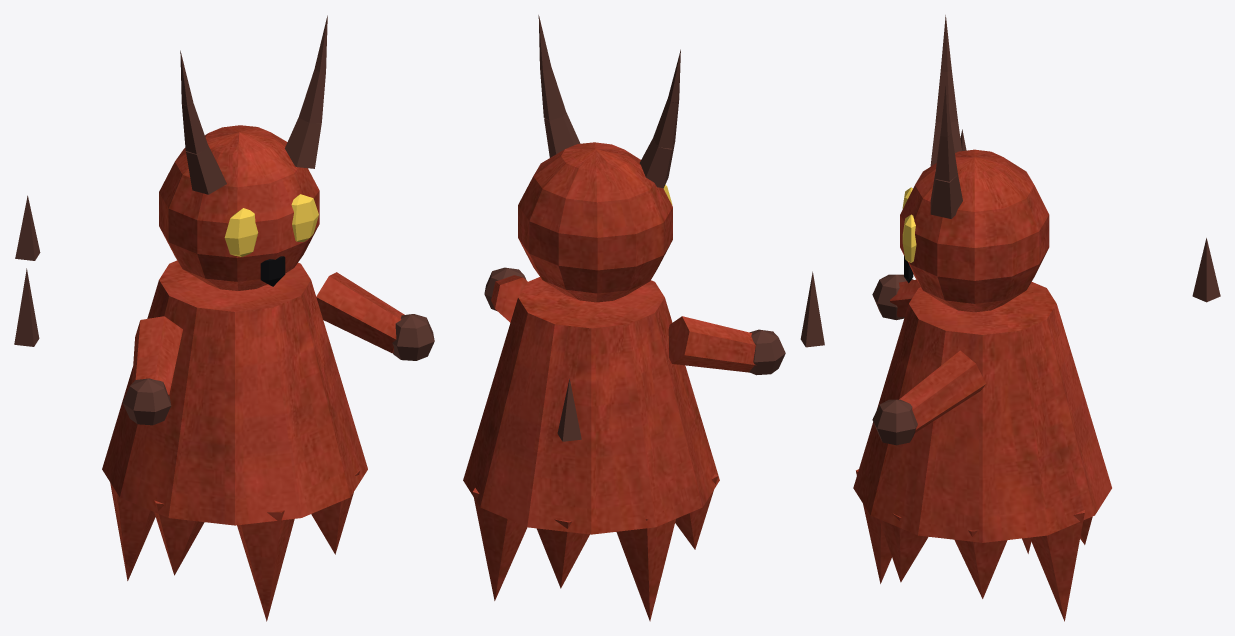
Rendered from mon_sp_fire_imp.glb.
3 renders of one model, left to right at view 1: azimuth 30°, elevation 25°; view 2: azimuth 150°, elevation 25°; view 3: azimuth 270°, elevation 25°, orthographic. The views are drawn at different scales.
Parts seen in each view (by area): view 1: mon_sp_fire_imp; view 2: mon_sp_fire_imp; view 3: mon_sp_fire_imp.
Part boxes in pixels (left/top/right/bottom): mon_sp_fire_imp: left=14, top=15, right=434, bottom=621; mon_sp_fire_imp: left=463, top=15, right=824, bottom=621; mon_sp_fire_imp: left=853, top=15, right=1220, bottom=621.
Bounding box in the file's own units: 0.642 × 0.8929 × 0.5453.
Materials: 4 (4 with a texture image).
